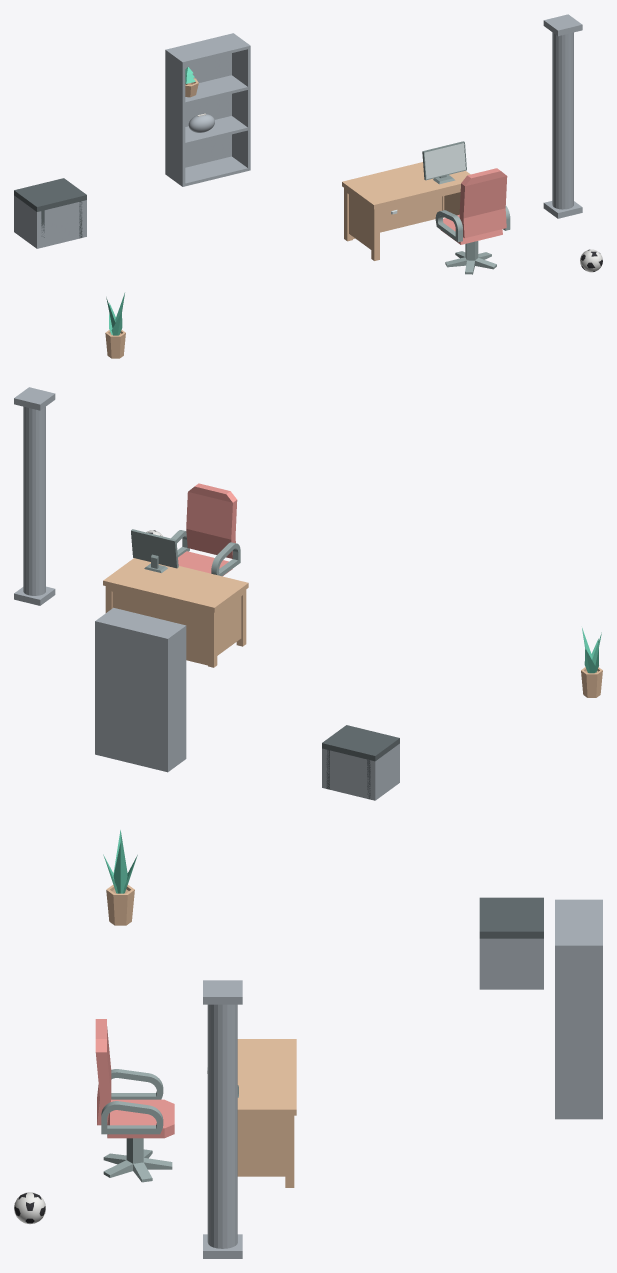
The picture shows the model from 3 angles, top to bottom: view 1: azimuth 30°, elevation 25°; view 2: azimuth 150°, elevation 25°; view 3: azimuth 270°, elevation 25°; orthographic projection. The views are drawn at different scales.
Visible parts, largest first — view 1: desk_blue__desk(Clone), column_cyan__column_cyan shaft, deskchair_black__chair, shelf_orange__shelf_orange back, crate_red__crate_red shell, shelf_orange__shelf_orange side_l, shelf_orange__shelf_orange side_r, crate_red__crate_red lid, monitor_gray__computerScreen(Clone), shelf_orange__shelf_orange board3, shelf_orange__shelf_orange board0, shelf_orange__shelf_orange board2 (+4 smaller); view 2: shelf_orange__shelf_orange back, desk_blue__desk(Clone), deskchair_black__chair, column_cyan__column_cyan shaft, crate_red__crate_red shell, shelf_orange__shelf_orange side_l, crate_red__crate_red lid, monitor_gray__computerScreen(Clone), shelf_orange__shelf_orange board3, column_cyan__column_cyan capital, plant_pink__pottedPlant(Clone); view 3: shelf_orange__shelf_orange side_r, desk_blue__desk(Clone), column_cyan__column_cyan shaft, deskchair_black__chair, crate_red__crate_red shell, crate_red__crate_red lid, shelf_orange__shelf_orange board3, deskchair_black__chairDesk(Clone), column_cyan__column_cyan capital, plant_pink__pottedPlant(Clone), soccer_white__soccer_white, plant_pink__plant (+1 smaller).
Boxes of the visible parts, box(x1,y1,x2,y2) form: desk_blue__desk(Clone): box(342, 162, 470, 260); column_cyan__column_cyan shaft: box(552, 32, 573, 209); deskchair_black__chair: box(435, 168, 510, 244); shelf_orange__shelf_orange back: box(168, 34, 231, 167); crate_red__crate_red shell: box(14, 195, 86, 248); shelf_orange__shelf_orange side_l: box(165, 49, 185, 186); shelf_orange__shelf_orange side_r: box(231, 33, 250, 170); crate_red__crate_red lid: box(14, 178, 86, 211); monitor_gray__computerScreen(Clone): box(422, 141, 466, 184); shelf_orange__shelf_orange board3: box(169, 34, 247, 64); shelf_orange__shelf_orange board0: box(185, 156, 247, 186); shelf_orange__shelf_orange board2: box(185, 75, 247, 104); shelf_orange__shelf_orange back: box(98, 621, 165, 771); desk_blue__desk(Clone): box(103, 558, 248, 667); deskchair_black__chair: box(171, 483, 240, 576); column_cyan__column_cyan shaft: box(23, 406, 45, 595); crate_red__crate_red shell: box(322, 743, 399, 800); shelf_orange__shelf_orange side_l: box(165, 625, 186, 772); crate_red__crate_red lid: box(322, 725, 399, 761); monitor_gray__computerScreen(Clone): box(131, 529, 178, 572); shelf_orange__shelf_orange board3: box(99, 608, 182, 637); column_cyan__column_cyan capital: box(14, 387, 55, 410); plant_pink__pottedPlant(Clone): box(581, 667, 602, 697); shelf_orange__shelf_orange side_r: box(555, 944, 602, 1119); desk_blue__desk(Clone): box(237, 1039, 296, 1187); column_cyan__column_cyan shaft: box(207, 1004, 237, 1248); deskchair_black__chair: box(95, 1019, 174, 1138); crate_red__crate_red shell: box(479, 938, 543, 989); crate_red__crate_red lid: box(479, 897, 543, 938); shelf_orange__shelf_orange board3: box(555, 901, 599, 943); deskchair_black__chairDesk(Clone): box(103, 1138, 172, 1182); column_cyan__column_cyan capital: box(203, 980, 242, 1004); plant_pink__pottedPlant(Clone): box(106, 885, 134, 925); soccer_white__soccer_white: box(14, 1192, 45, 1224); plant_pink__plant: box(103, 830, 137, 893).
Size of the model in its own units: 5.57 by 1.98 by 4.03.
